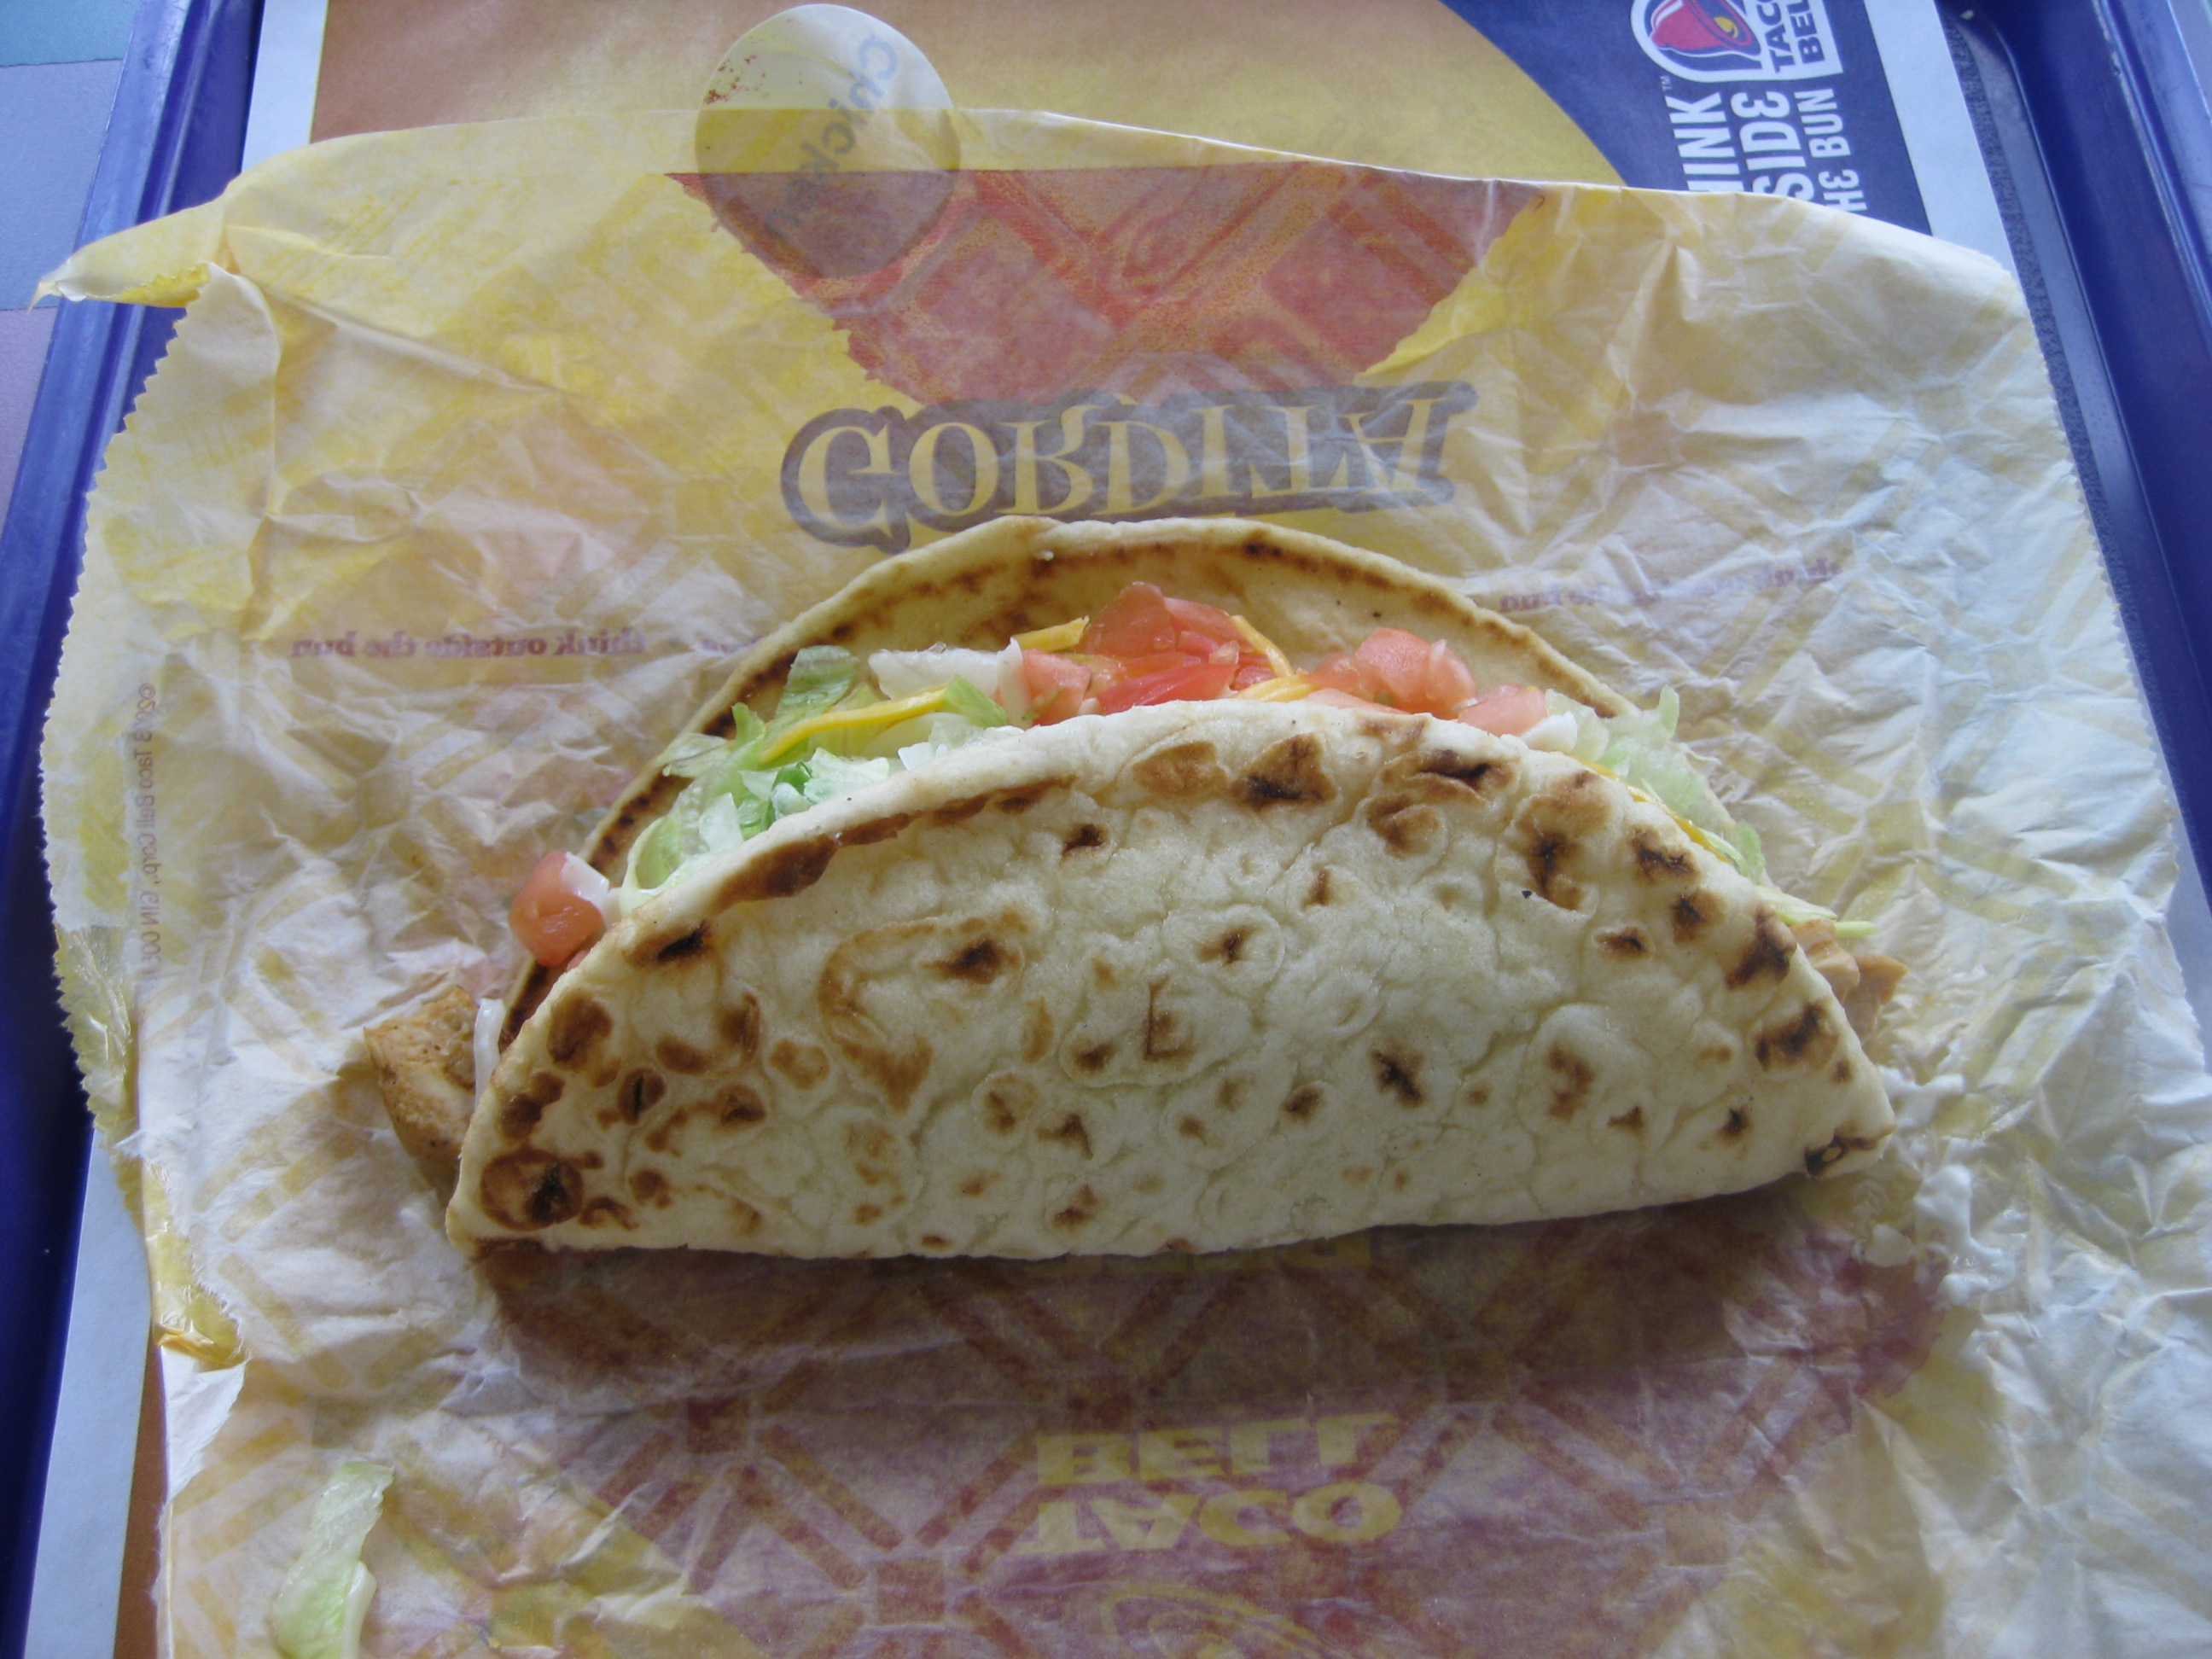taco: (433, 464, 1928, 1326)
